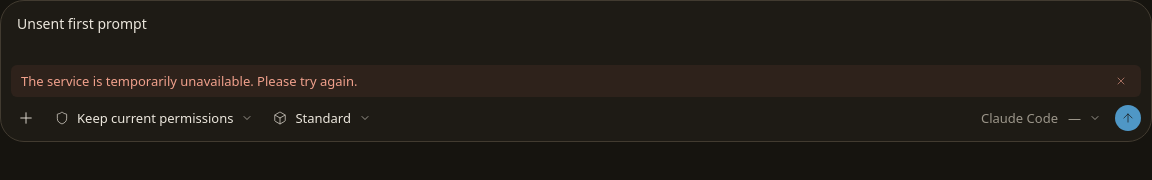
Test case: preserves both the failed message and text composed during delivery
Press Enter in the text box, box [11,11,1141,57]
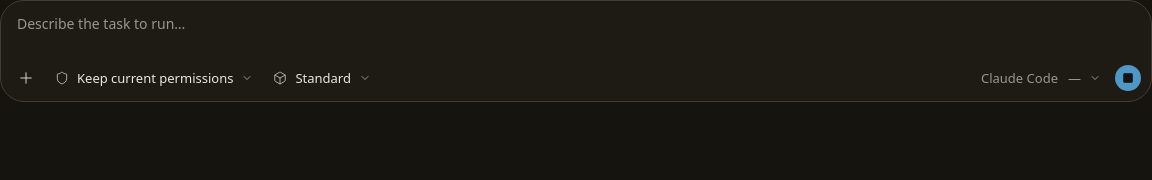
Type "Next draft" into the text box. click: (576, 34)
box: [11,11,1141,57]
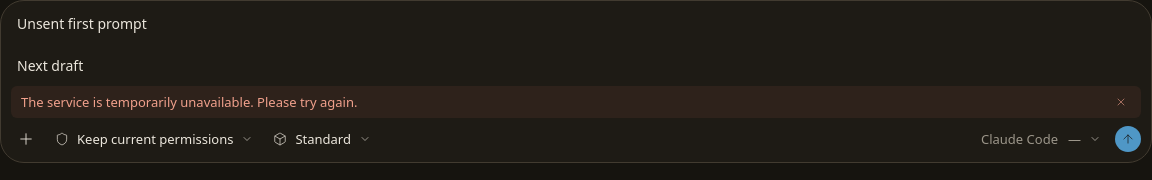
Result: the message "The service is temporarily unavailable. Please try again." is shown at [11,86,1141,118]
